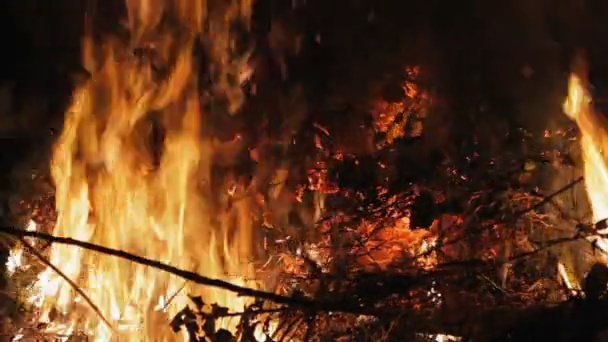fire: (21, 1, 285, 342), (561, 75, 608, 253), (6, 249, 21, 268), (560, 266, 572, 288), (436, 334, 451, 342), (27, 220, 34, 230)
